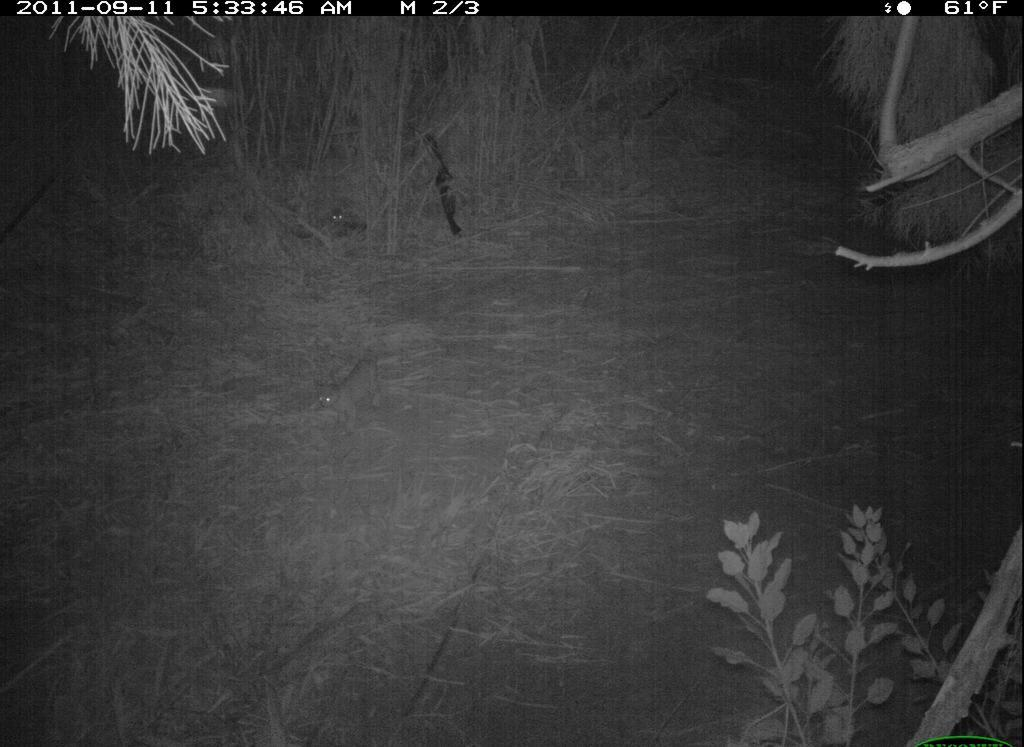bobcat: (309, 349, 385, 435), (314, 196, 374, 241)
